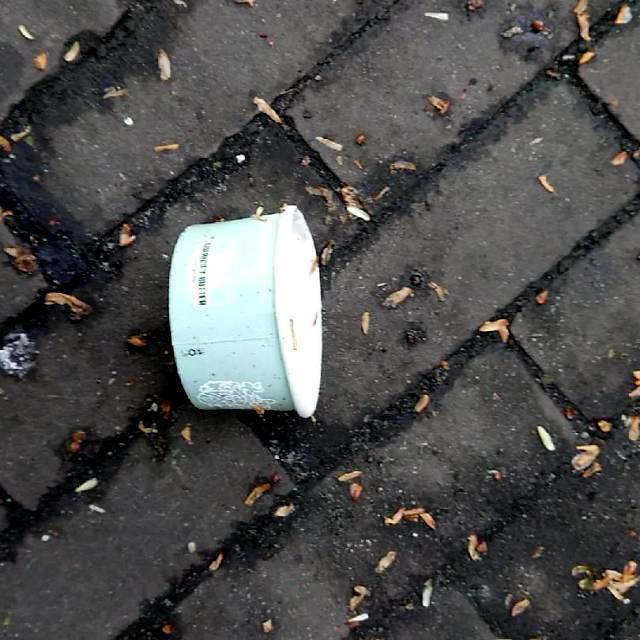Paper: (165, 202, 325, 420)
